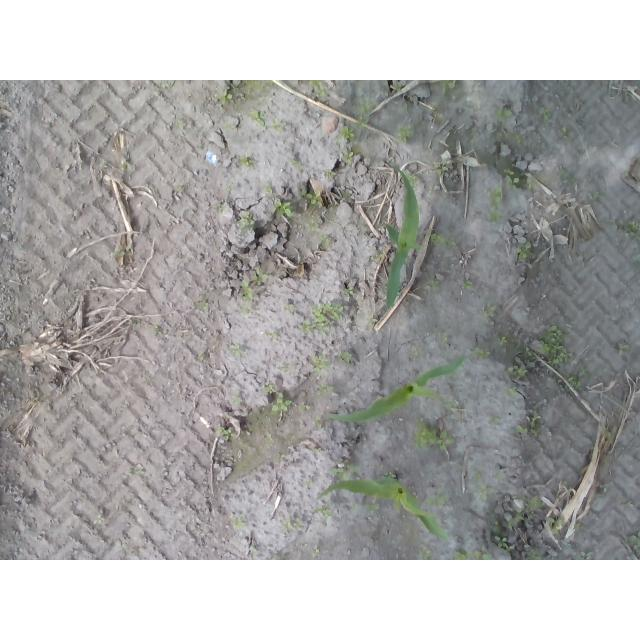Maize: (323, 353, 468, 425), (314, 477, 450, 543), (381, 158, 423, 309)
Weeds: (539, 323, 573, 366), (303, 301, 342, 336), (413, 426, 455, 449), (488, 185, 505, 224), (354, 95, 375, 123), (329, 464, 360, 481), (428, 233, 460, 248), (516, 415, 541, 434), (271, 395, 293, 413), (453, 550, 492, 560), (275, 198, 293, 218), (629, 529, 640, 560), (439, 80, 458, 97), (503, 512, 523, 528), (505, 168, 519, 190), (310, 80, 327, 98), (525, 496, 544, 512), (283, 518, 306, 531), (479, 486, 498, 501), (508, 363, 528, 377), (241, 280, 255, 300), (312, 353, 328, 369), (240, 211, 255, 228), (427, 495, 449, 506), (567, 374, 582, 390), (627, 219, 640, 237), (423, 280, 441, 293), (432, 161, 448, 175), (304, 191, 320, 205), (251, 112, 265, 128), (318, 508, 335, 521), (473, 348, 490, 361), (495, 535, 510, 549), (305, 217, 319, 231), (252, 271, 266, 285), (483, 305, 496, 319), (399, 128, 413, 141), (220, 89, 232, 104), (418, 548, 433, 560), (526, 550, 543, 560), (290, 159, 303, 172), (324, 169, 337, 181), (340, 126, 353, 138), (222, 428, 235, 440), (339, 351, 353, 362), (486, 416, 503, 425), (389, 82, 404, 92), (520, 344, 532, 356), (318, 385, 334, 394), (550, 520, 563, 531), (241, 156, 255, 166), (230, 344, 241, 356), (462, 279, 474, 290), (342, 150, 354, 161), (562, 127, 571, 141), (499, 335, 510, 346), (497, 110, 512, 118), (513, 133, 523, 145), (618, 343, 630, 353), (580, 552, 593, 561), (297, 402, 306, 415), (507, 387, 517, 398), (198, 303, 210, 312), (517, 248, 527, 258), (343, 288, 353, 297), (265, 384, 275, 393), (543, 111, 551, 121)
